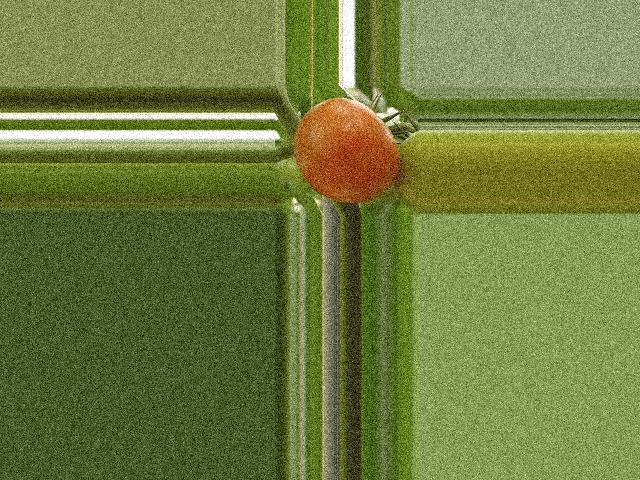tomato: (294, 97, 400, 203)
